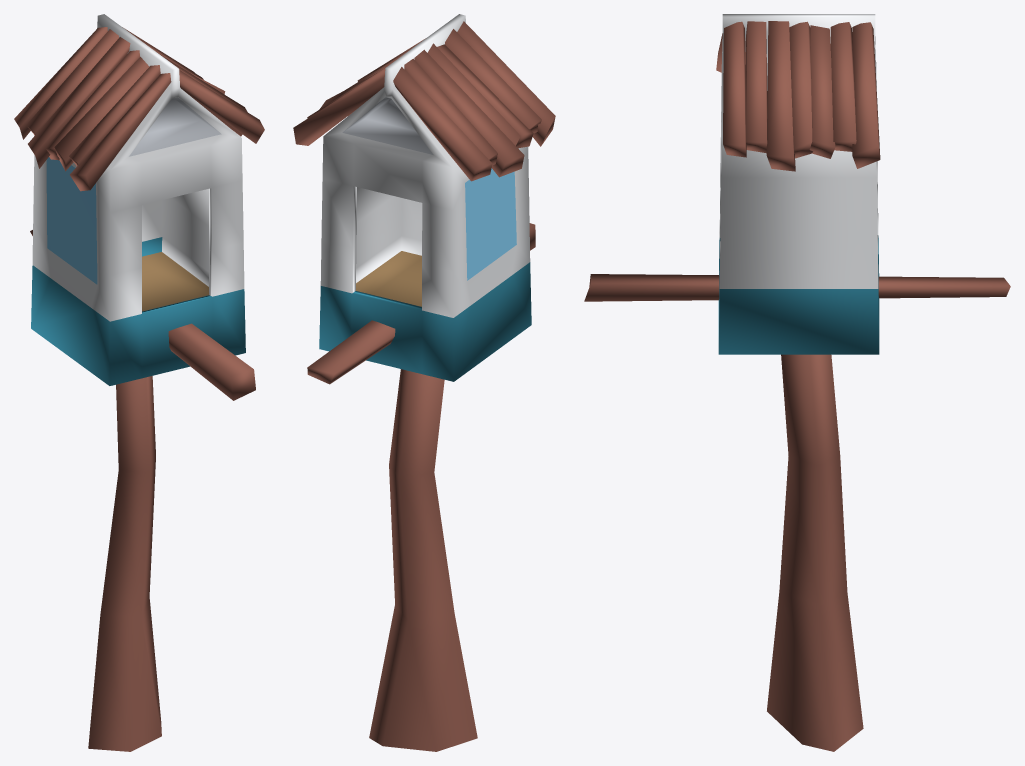
Rendered from birdhouse.fbx.
The picture shows the model from 3 angles, left to right: view 1: azimuth 30°, elevation 25°; view 2: azimuth 150°, elevation 25°; view 3: azimuth 270°, elevation 25°; orthographic projection. The views are drawn at different scales.
Parts seen in each view (by area): view 1: Cube.022; view 2: Cube.022; view 3: Cube.022.
Boxes of the visible parts, <box> form: Cube.022: <box>14,14,264,751</box>; Cube.022: <box>293,14,555,751</box>; Cube.022: <box>584,14,1010,751</box>.
Size of the model in its own units: 48.2 by 157 by 84.72.
